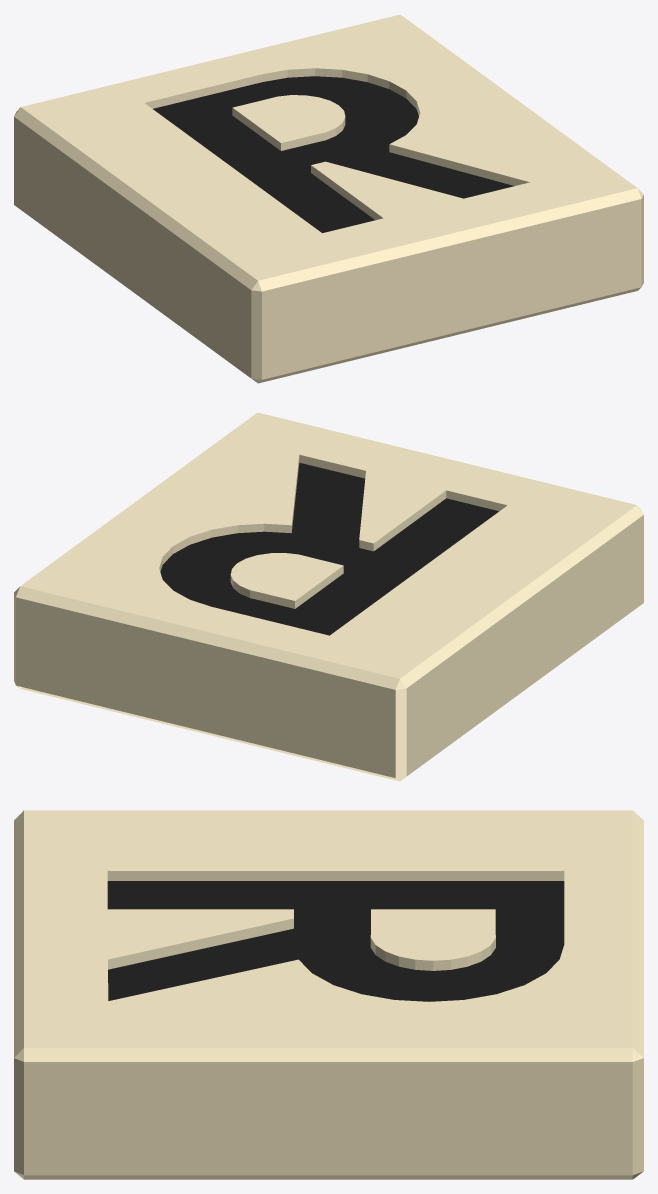
Rendered from Boardgame_Piece_Anagram_Letter_R_01.fbx.
3 views of the same model, one above another, from view 1: azimuth 30°, elevation 25°; view 2: azimuth 150°, elevation 25°; view 3: azimuth 270°, elevation 25° (orthographic). The views are drawn at different scales.
Parts seen in each view (by area): view 1: Boardgame_Piece_Anagram_Letter_R_01; view 2: Boardgame_Piece_Anagram_Letter_R_01; view 3: Boardgame_Piece_Anagram_Letter_R_01.
Part boxes in pixels (left/top/right/bottom): Boardgame_Piece_Anagram_Letter_R_01: left=14, top=14, right=643, bottom=383; Boardgame_Piece_Anagram_Letter_R_01: left=14, top=412, right=643, bottom=781; Boardgame_Piece_Anagram_Letter_R_01: left=14, top=810, right=643, bottom=1179.
Bounding box in the file's own units: 1000 × 250 × 1083.
